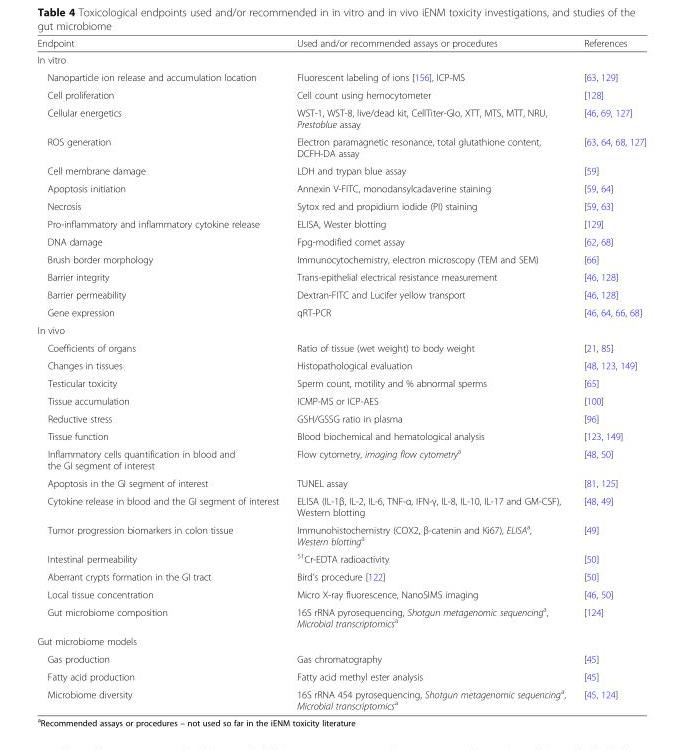table: (36, 37, 645, 711)
table column: (287, 37, 574, 711), (36, 37, 287, 711), (574, 37, 645, 711)
table column header: (36, 37, 645, 50)
table projected row header: (36, 50, 645, 68), (36, 320, 645, 338), (36, 632, 645, 649)
table row: (36, 444, 645, 474), (36, 602, 645, 632), (36, 103, 645, 132), (36, 132, 645, 161), (36, 491, 645, 520), (36, 520, 645, 549), (36, 684, 645, 711), (36, 50, 645, 68), (36, 85, 645, 103), (36, 161, 645, 179), (36, 179, 645, 197), (36, 214, 645, 232), (36, 232, 645, 250), (36, 267, 645, 285), (36, 285, 645, 303), (36, 320, 645, 338), (36, 338, 645, 356), (36, 356, 645, 374), (36, 391, 645, 409), (36, 409, 645, 427), (36, 549, 645, 567), (36, 567, 645, 585), (36, 649, 645, 667), (36, 68, 645, 85), (36, 197, 645, 214), (36, 250, 645, 267), (36, 303, 645, 320), (36, 374, 645, 391), (36, 427, 645, 444), (36, 474, 645, 491), (36, 585, 645, 602), (36, 632, 645, 649), (36, 667, 645, 684), (36, 37, 645, 50)
